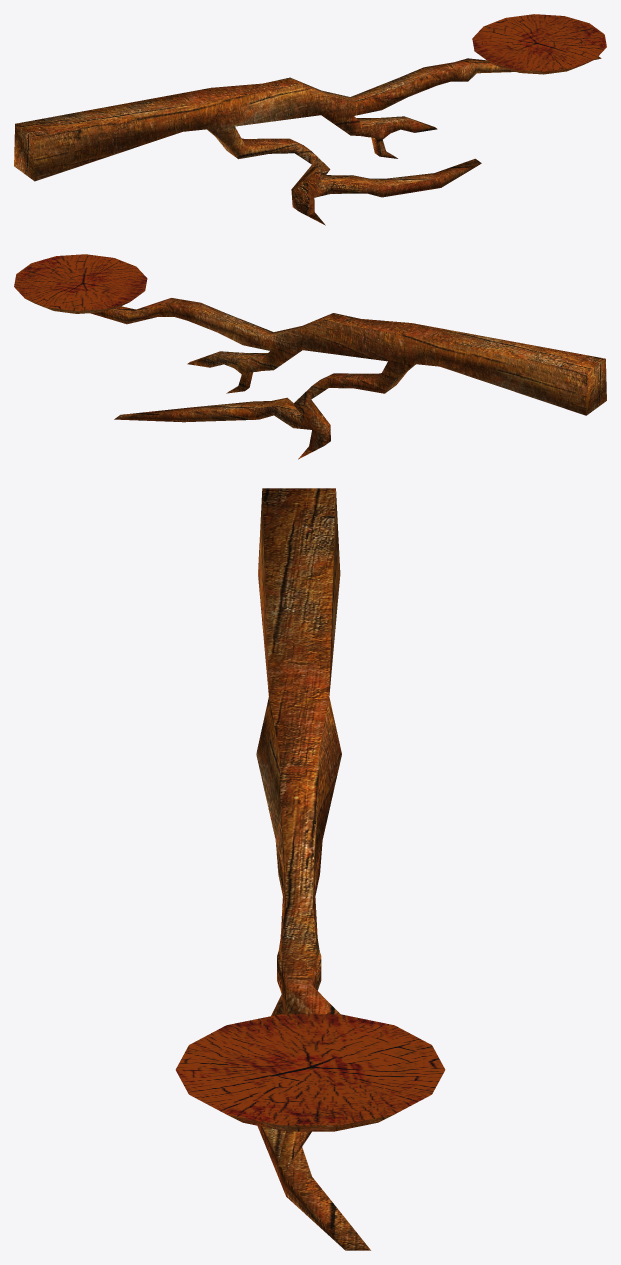
File: Bark.FBX
The picture shows the model from 3 angles, top to bottom: view 1: azimuth 30°, elevation 25°; view 2: azimuth 150°, elevation 25°; view 3: azimuth 270°, elevation 25°; orthographic projection. The views are drawn at different scales.
Parts seen in each view (by area): view 1: Tree Branch; view 2: Tree Branch; view 3: Tree Branch.
Part boxes in pixels (x1,y1,x2,y2): Tree Branch: (14, 14, 606, 225); Tree Branch: (14, 254, 606, 459); Tree Branch: (175, 488, 445, 1250).
Size of the model in its own units: 240 by 67.04 by 49.25.
